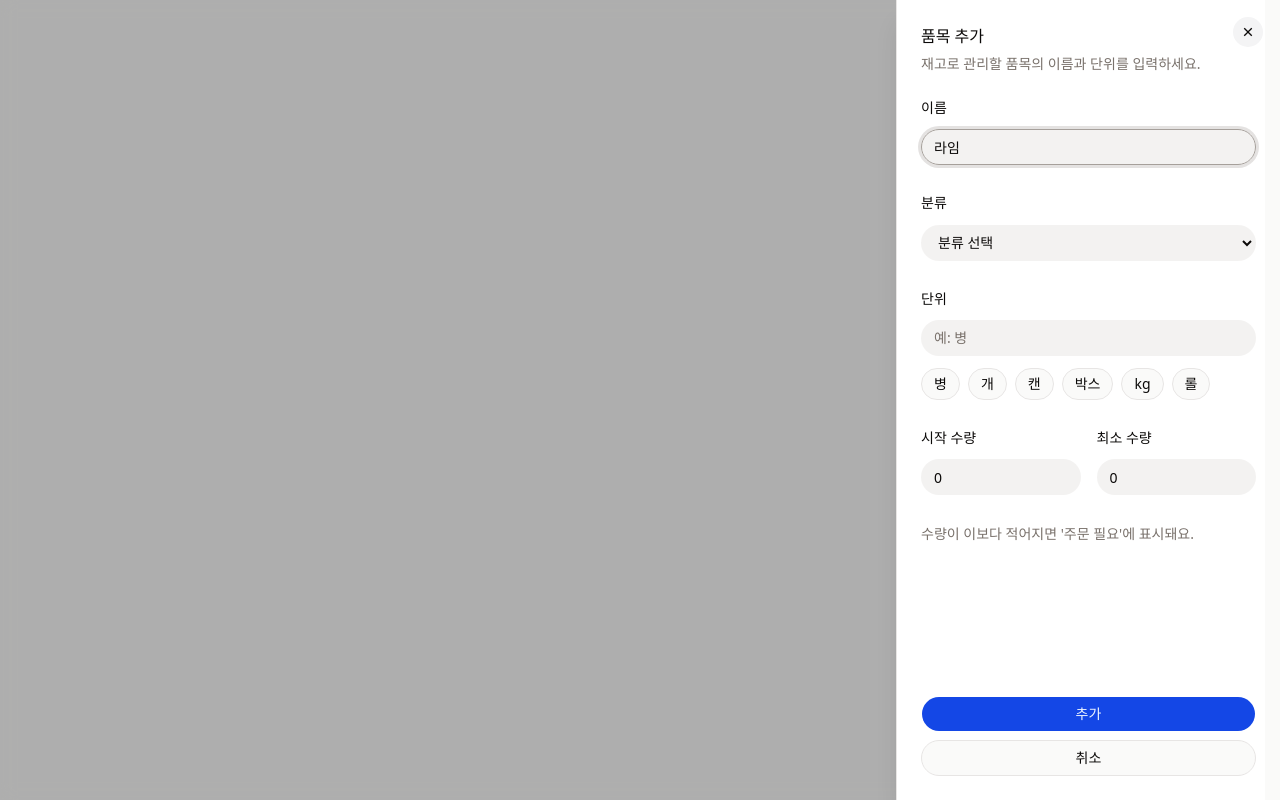
Test case: ItemFormSheet › explains how to fix a duplicate item name
Select "가니시" in the dropdown labelled "분류" at (1088, 242), box [921,224,1256,260]
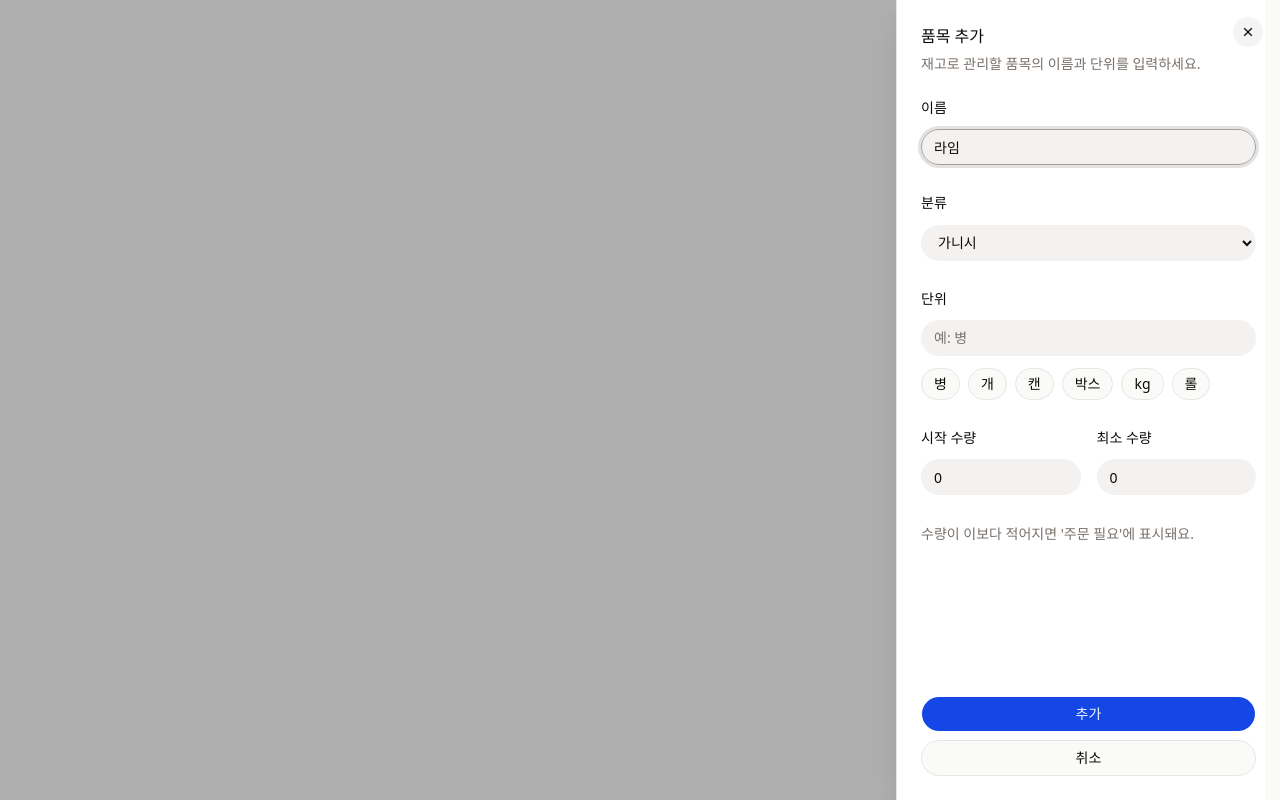
Click the button "개" at (987, 384), box [968,368,1007,400]
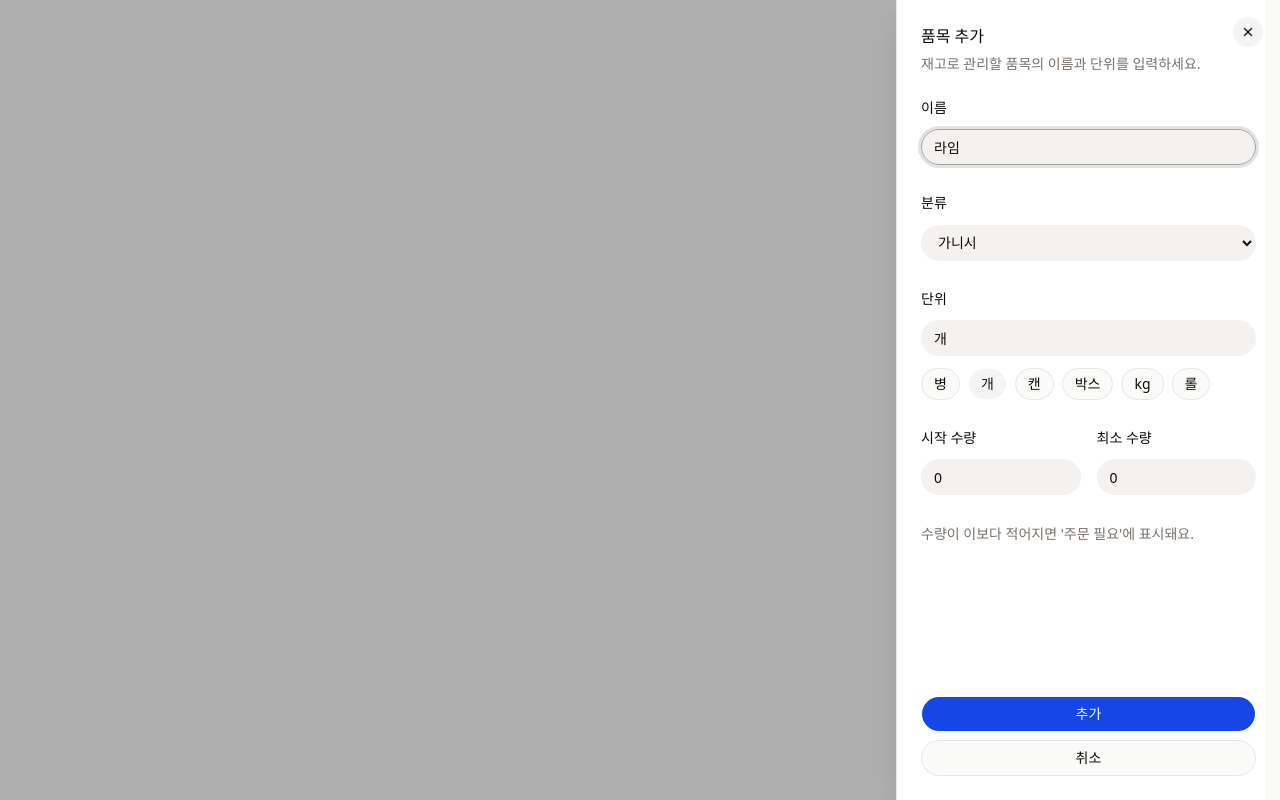
Click the button "추가" at (1088, 714), box [921,696,1256,732]
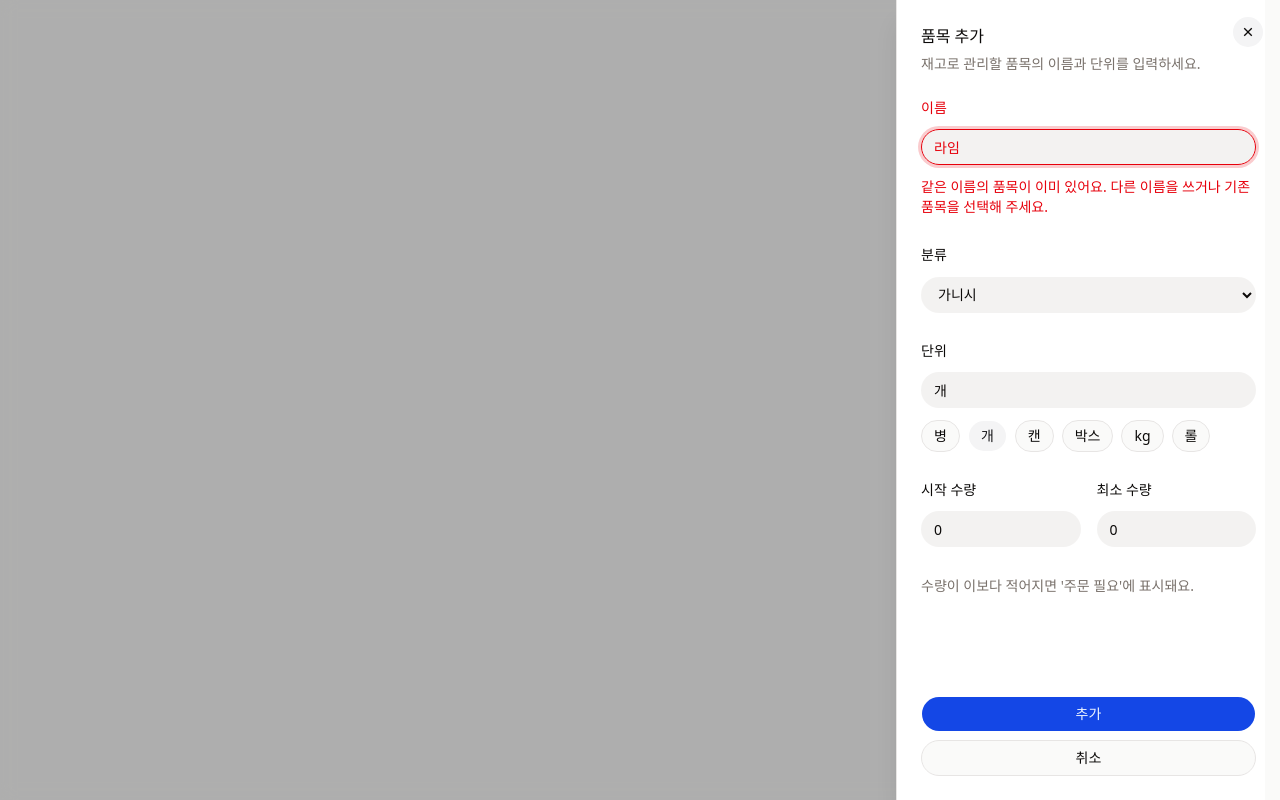
Now the text "같은 이름의 품목이 이미 있어요. 다른 이름을 쓰거나 기존 품목을 선택해 주세요." is shown, box [921,177,1256,217]
